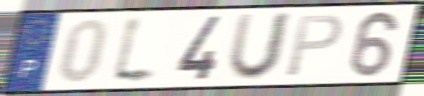0: (56, 17, 112, 85)
4: (175, 14, 221, 83)
6: (348, 10, 400, 80)
L: (108, 13, 161, 87)
P: (283, 13, 345, 79)
U: (224, 10, 295, 83)
